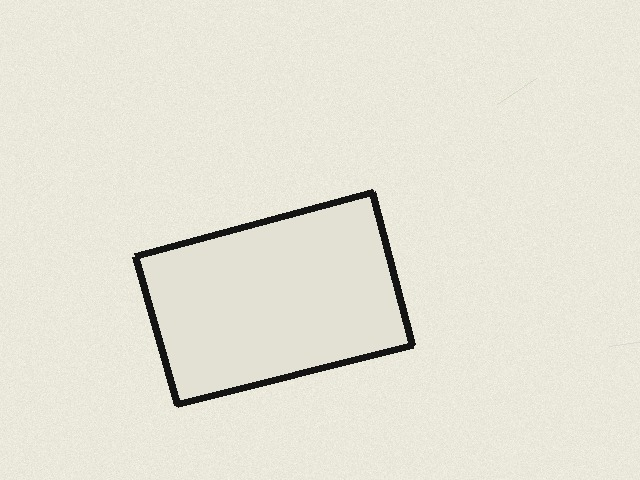parking_area: (135, 192, 412, 404)
